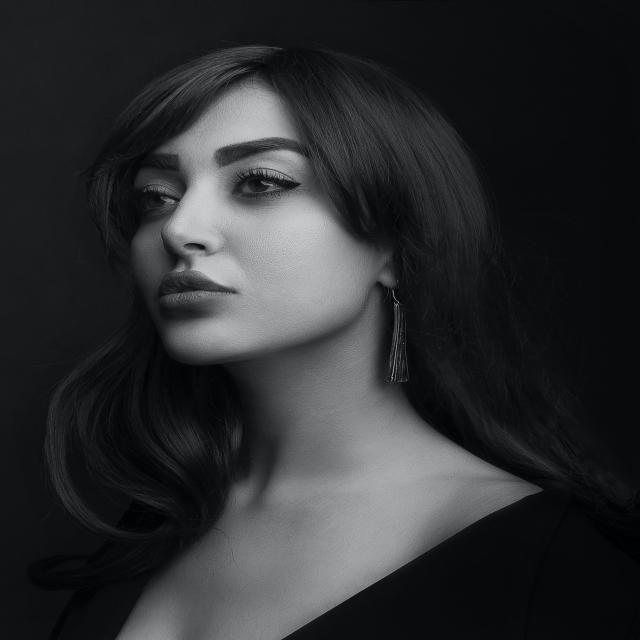adult: (0, 28, 580, 640)
